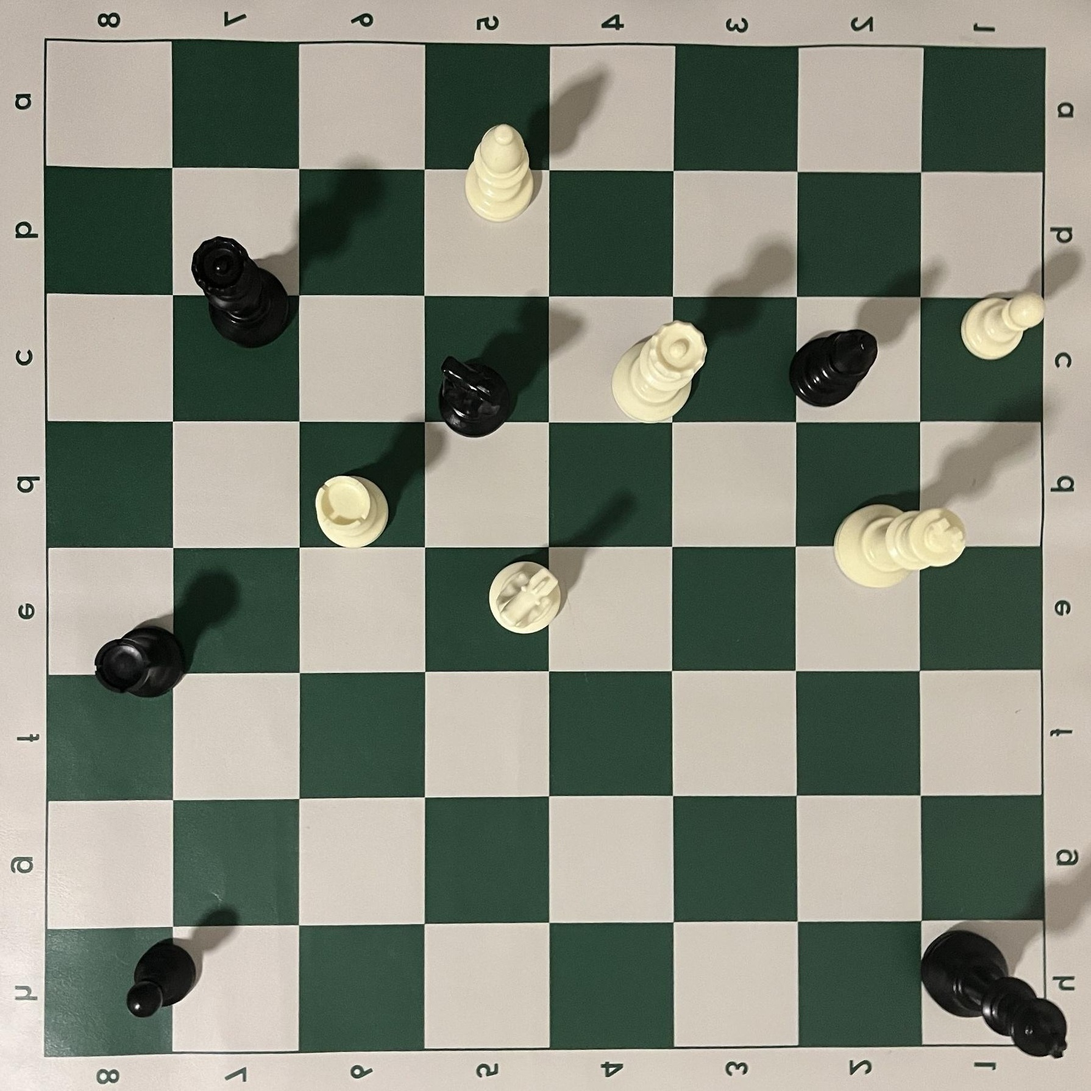black_bishop: (787, 329, 880, 407)
black_king: (919, 929, 1070, 1059)
black_knight: (438, 355, 513, 439)
black_pawn: (125, 937, 198, 1020)
black_queen: (191, 235, 291, 348)
black_rook: (94, 622, 188, 699)
white_bishop: (464, 124, 535, 223)
white_king: (831, 503, 967, 588)
white_knight: (488, 560, 563, 636)
white_pawn: (959, 291, 1048, 361)
white_queen: (610, 319, 709, 423)
white_rook: (314, 475, 390, 549)
